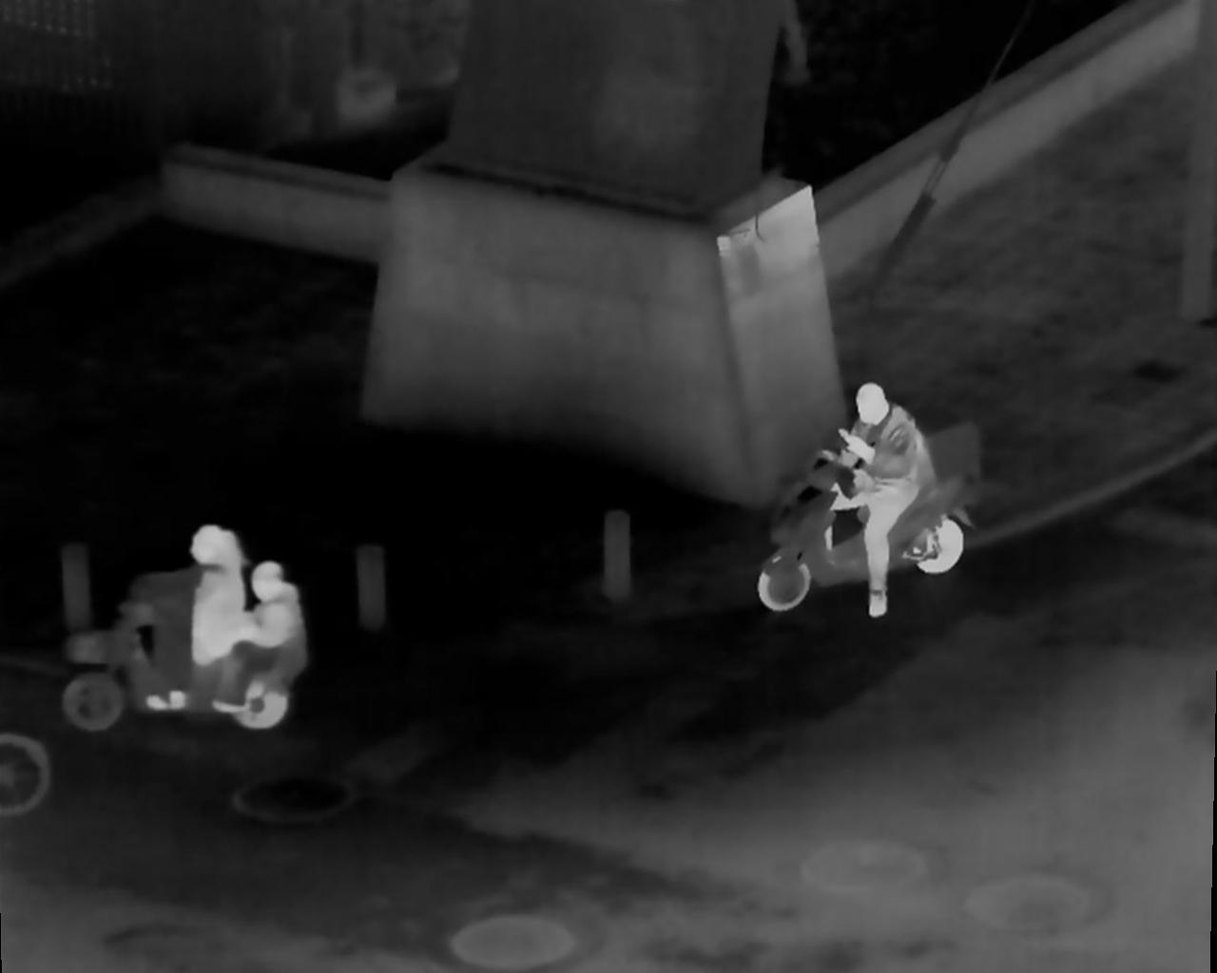person: (813, 387, 942, 612), (164, 519, 247, 702), (220, 563, 302, 729)
